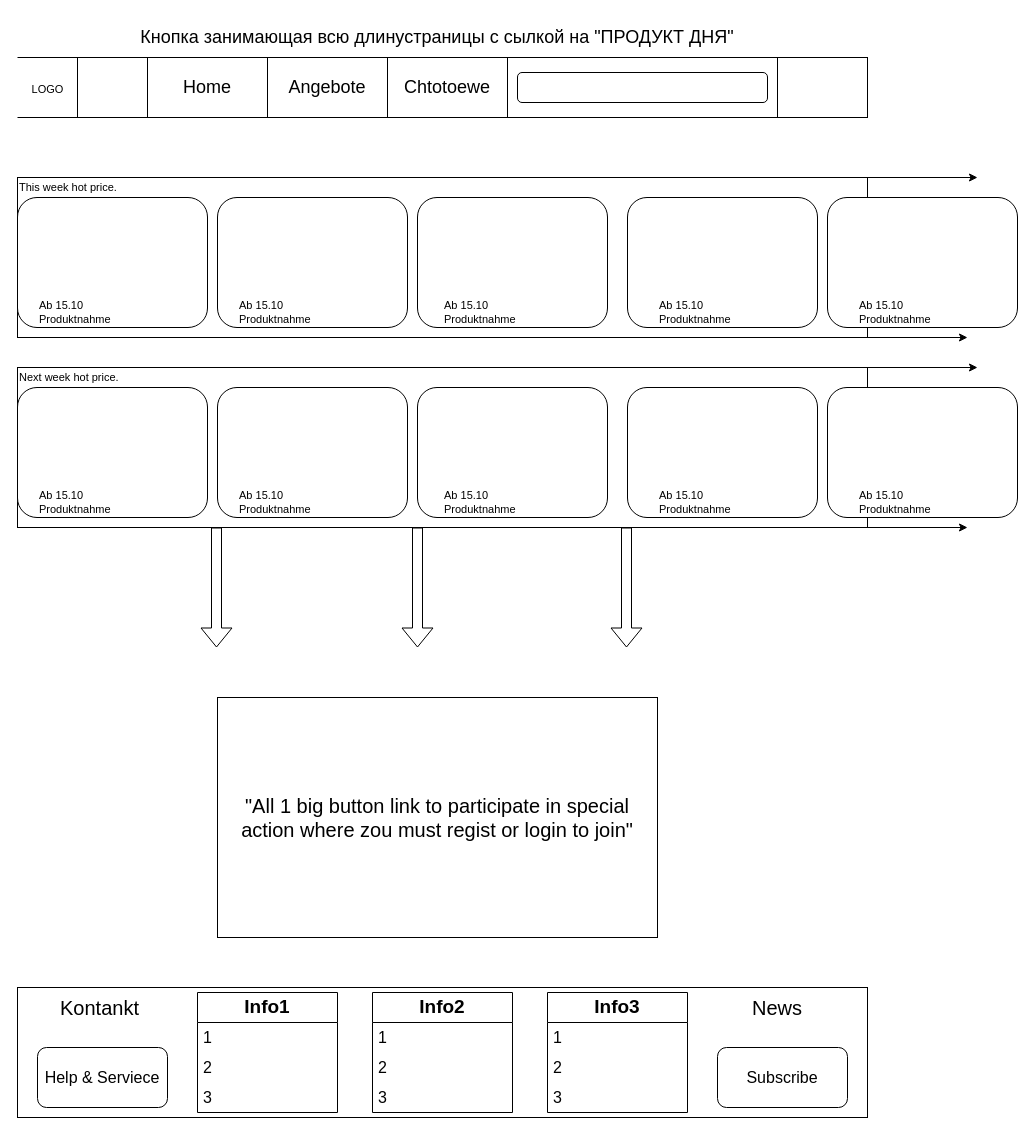
The diagram is 1035 pixels wide and 1135 high, and some of its shapes have lost their labels. The centre of each missing label's shape, as x and y in pixels:
"Login" belongs at (x=822, y=87).
"Menu" belongs at (x=112, y=87).
"Search" belongs at (x=642, y=87).
